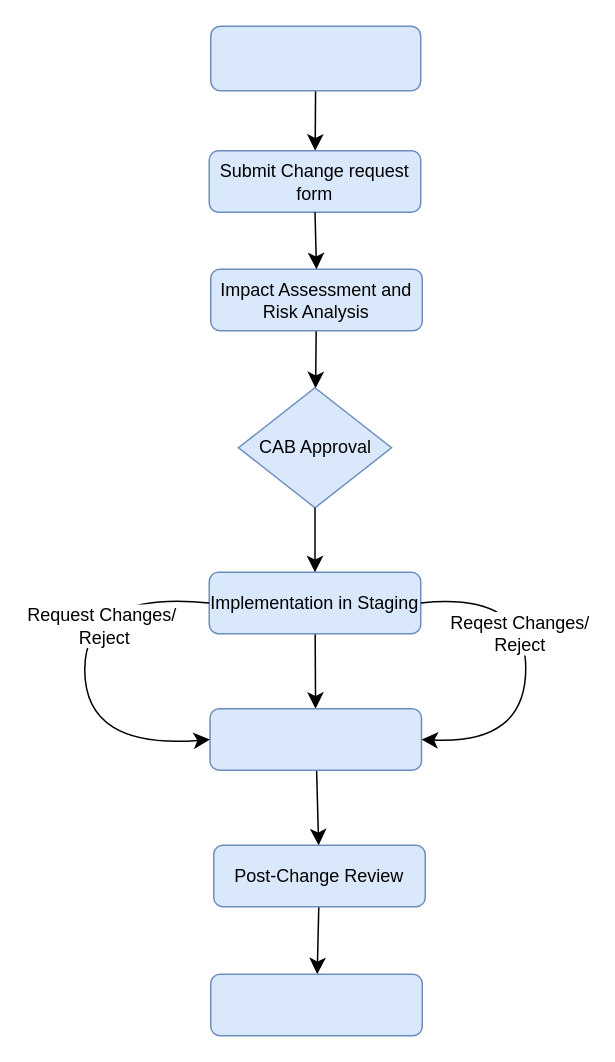
Some shapes in this 615 by 1062 pixel diagram are drawn without their labels. The shapes that lost their labels are listed below. From the top down, each one's centre as x and y in pixels, then its label:
At pixel 315 58: "Change Initiation".
At pixel 315 738: "Deployment to Production".
At pixel 315 1004: "Closure".
